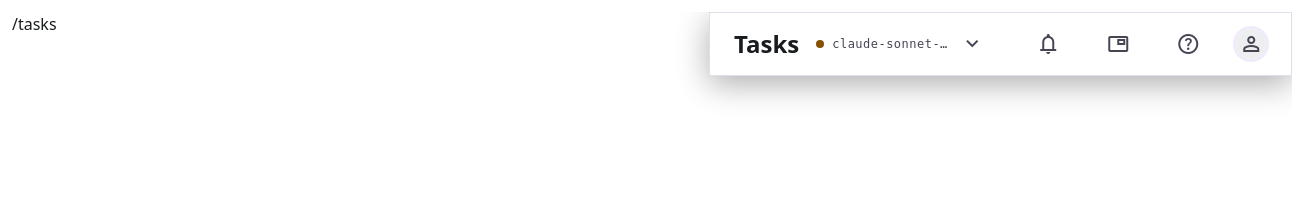
Test case: Header component › empty catalog: the menu renders an explanatory entry deep-linking to /settings/models
The image size is (1292, 212).
Step 1. Click the button with aria-label "Select model" → click(900, 44), box [799, 28, 1001, 60]
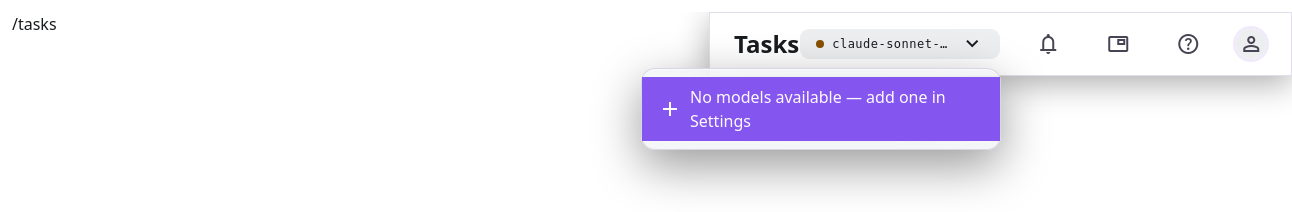
Now the option with test id "header-model-empty" reads "No models available — add one in Settings"
Step 2. Click the option with test id "header-model-empty" → click(821, 109), box [642, 77, 1000, 141]
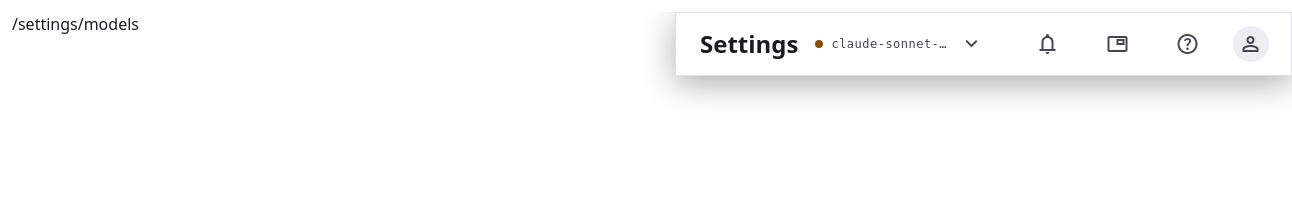
Now the text with test id "header-location" reads "/settings/models", box [12, 13, 139, 35]
